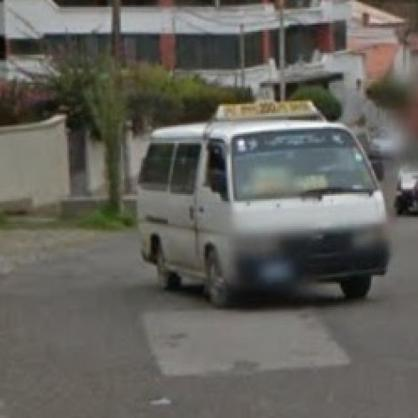car: (134, 113, 393, 308)
